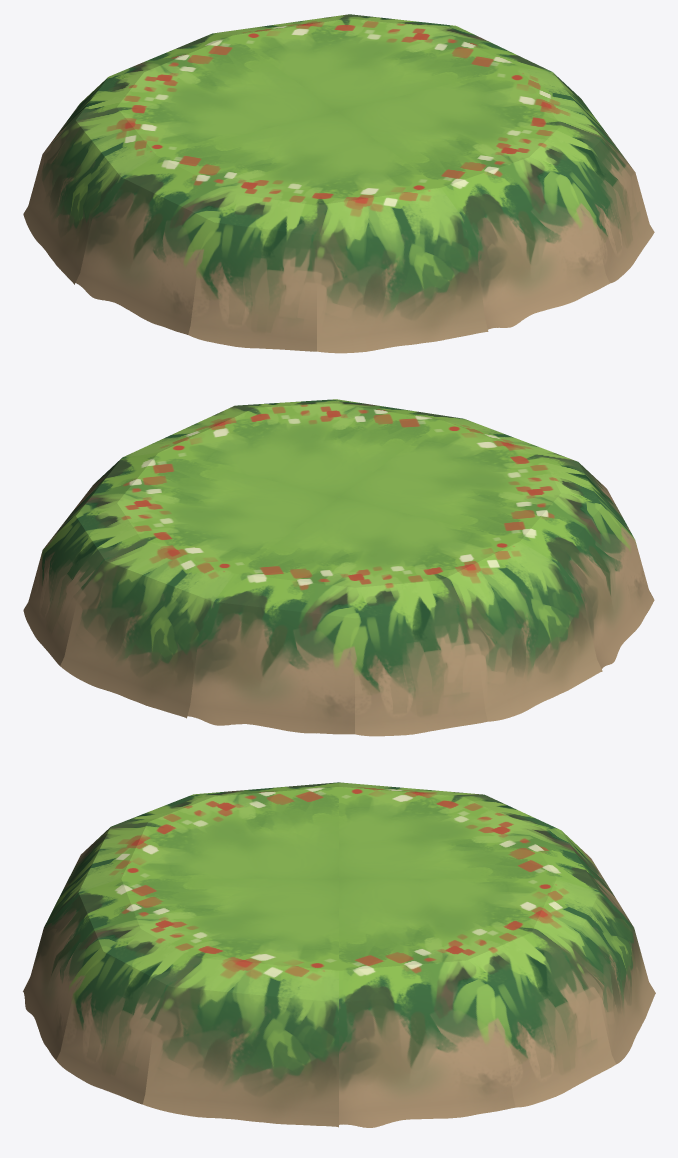
The model's file is Mound1.fbx.
3 renders of one model, top to bottom at view 1: azimuth 30°, elevation 25°; view 2: azimuth 150°, elevation 25°; view 3: azimuth 270°, elevation 25°, orthographic. The views are drawn at different scales.
Parts seen in each view (by area): view 1: Mound1; view 2: Mound1; view 3: Mound1.
Boxes of the visible parts, left/top/right/bottom form: Mound1: left=23, top=14, right=654, bottom=353; Mound1: left=23, top=399, right=654, bottom=736; Mound1: left=23, top=782, right=655, bottom=1127.
Bounding box in the file's own units: 4.42 × 0.9569 × 4.42.
